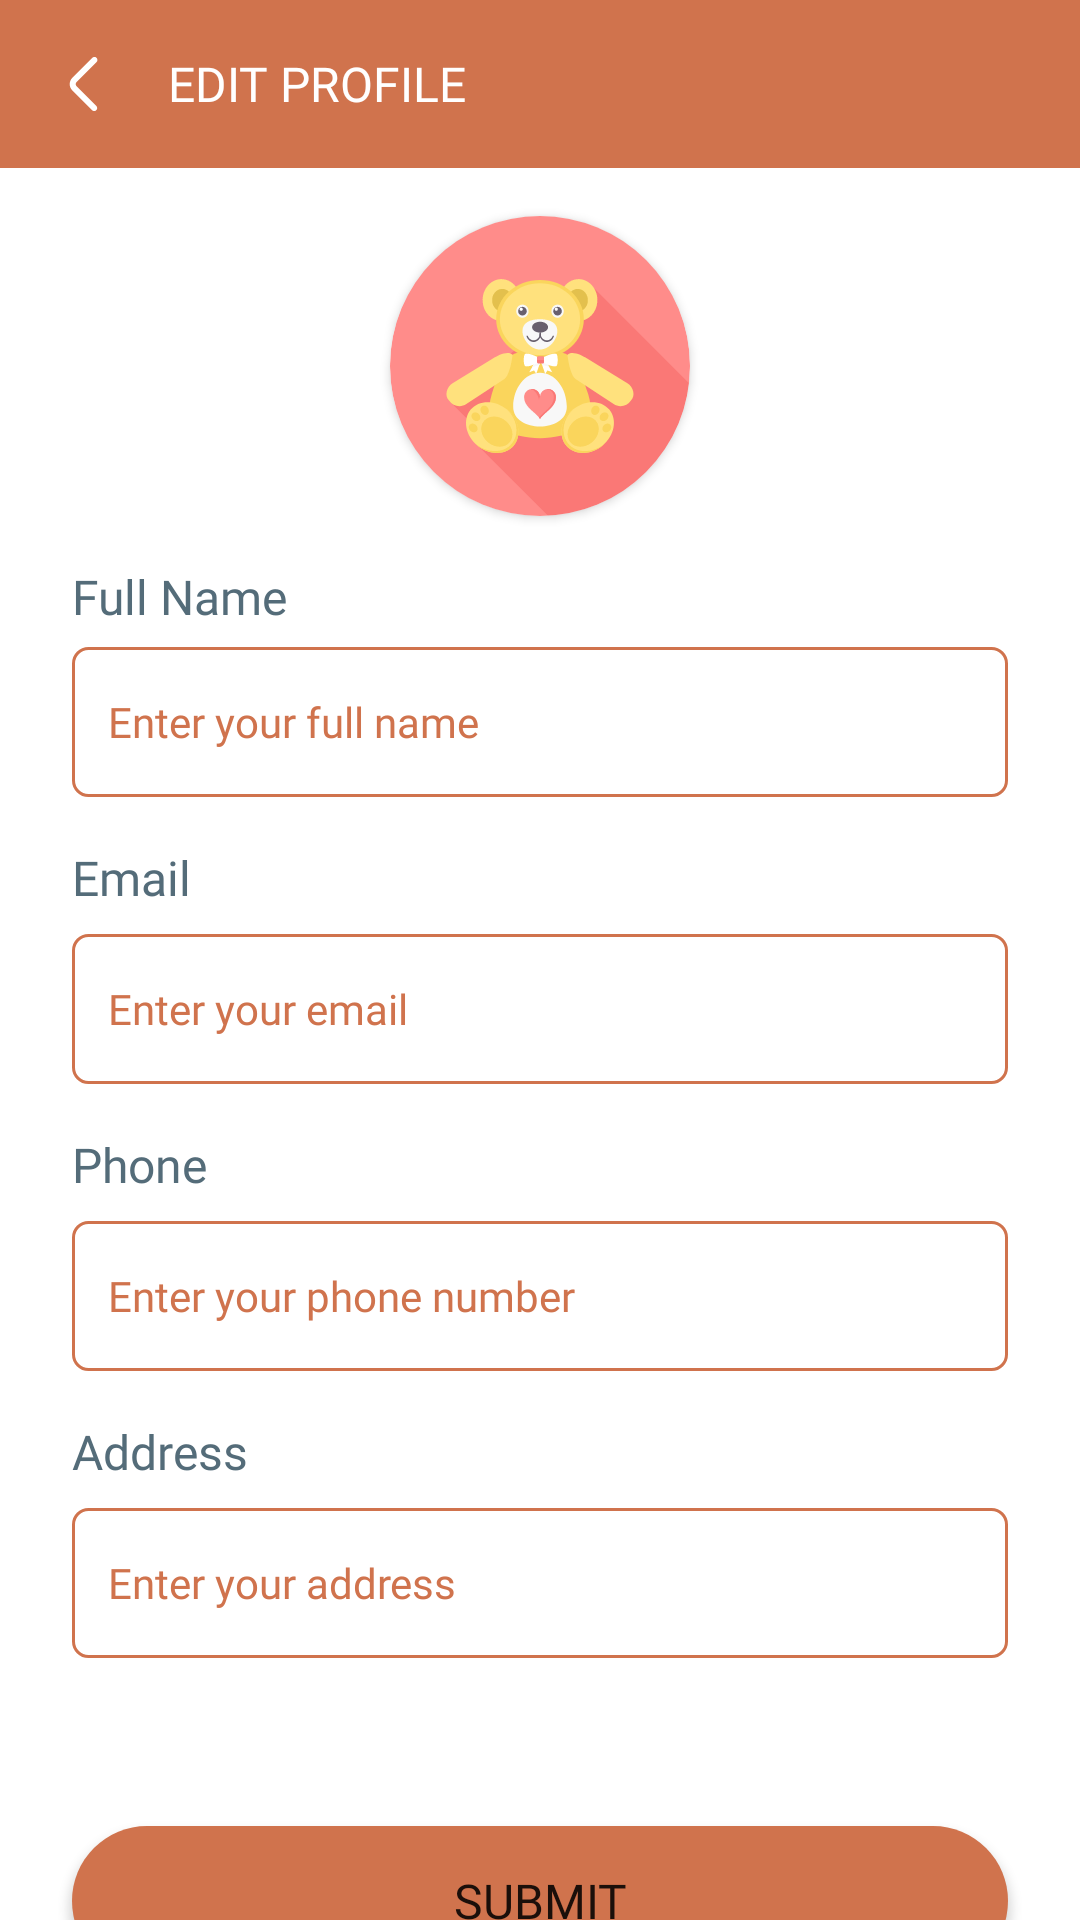

Locate icon controls on the screen. Image size 1080px×1920px, boxes as Rect(x1, y1, x2, y2).
back: Rect(69, 57, 98, 111)
